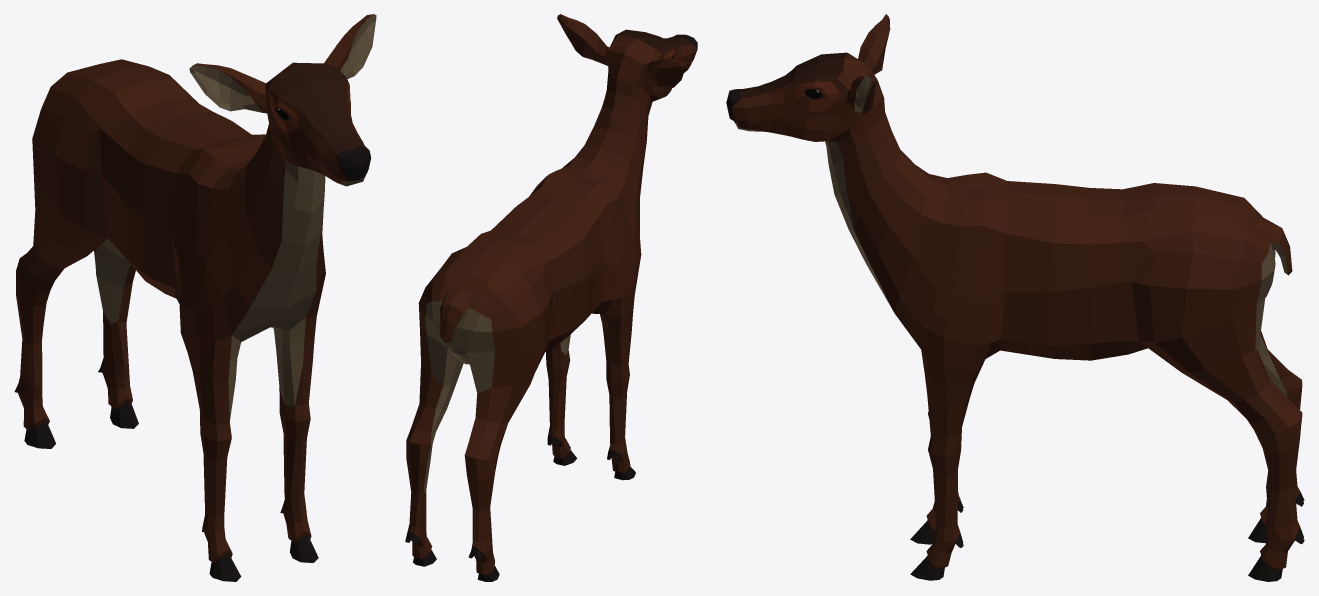
Rendered from Deer.obj.
3 renders of one model, left to right at view 1: azimuth 30°, elevation 25°; view 2: azimuth 150°, elevation 25°; view 3: azimuth 270°, elevation 25°, orthographic. The views are drawn at different scales.
Visible parts, largest first — view 1: Deer_Cube; view 2: Deer_Cube; view 3: Deer_Cube.
Part boxes in pixels (left/top/right/bottom): Deer_Cube: left=14, top=14, right=376, bottom=581; Deer_Cube: left=405, top=14, right=697, bottom=581; Deer_Cube: left=726, top=14, right=1304, bottom=581.
Size of the model in its own units: 1.45 by 4.32 by 4.39.
